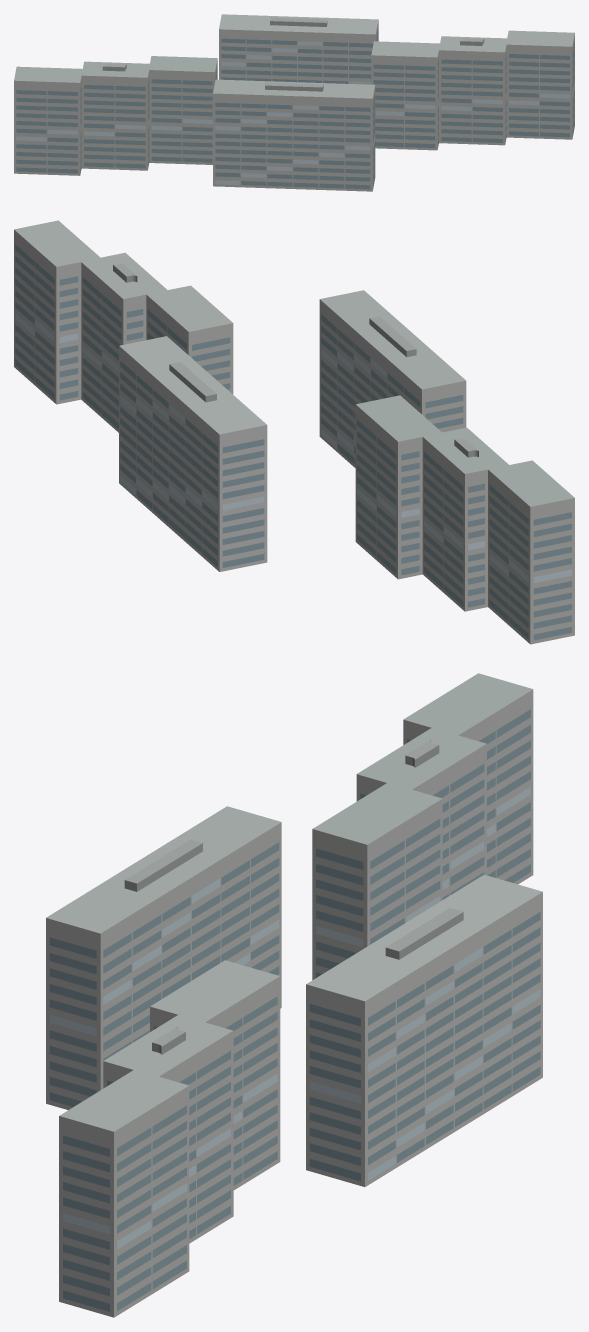
Rendered from apt-a13813005.glb.
3 views of the same model, one above another, from view 1: azimuth 30°, elevation 25°; view 2: azimuth 150°, elevation 25°; view 3: azimuth 270°, elevation 25° (orthographic). The views are drawn at different scales.
Visible parts, largest first — view 1: apt-a13813005; view 2: apt-a13813005; view 3: apt-a13813005.
Part boxes in pixels (x1=…): apt-a13813005: x1=14, y1=14, x2=574, y2=191; apt-a13813005: x1=14, y1=220, x2=574, y2=644; apt-a13813005: x1=46, y1=673, x2=542, y2=1317.
Bounding box in the file's own units: 194 × 38.25 × 88.71.
